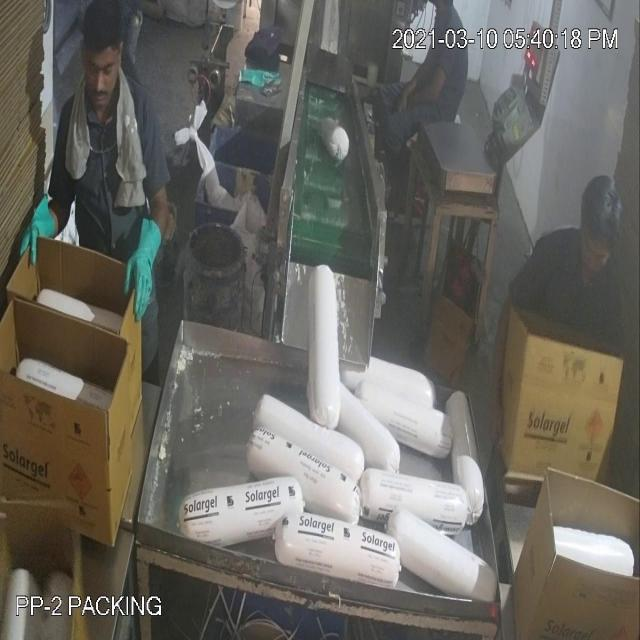No_Gloves: (37, 65, 502, 378)
